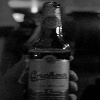beer: (28, 2, 72, 100)
